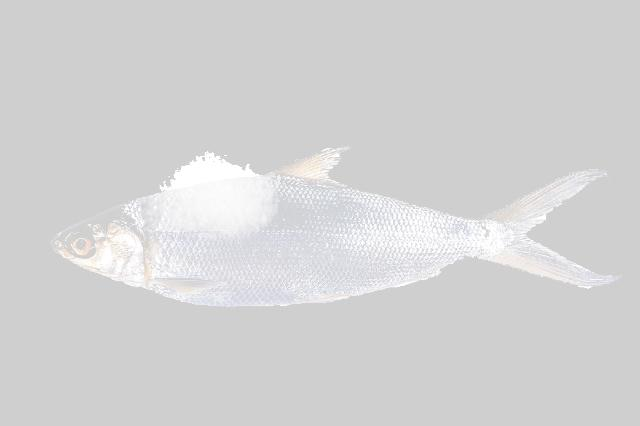Fungal Disease -Saprolegniasis-: (51, 148, 617, 307)
